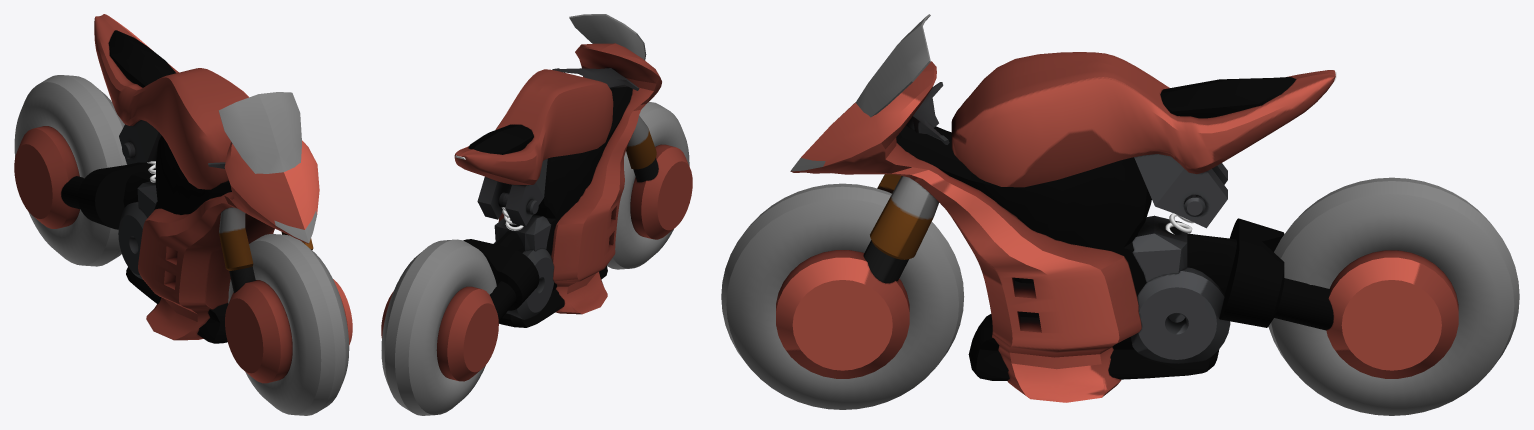
Rendered from motorbike.fbx.
The picture shows the model from 3 angles, left to right: view 1: azimuth 30°, elevation 25°; view 2: azimuth 150°, elevation 25°; view 3: azimuth 270°, elevation 25°; orthographic projection. The views are drawn at different scales.
Parts seen in each view (by area): view 1: Bike, wheel front, wheel rear, wheel center front, glass, wheel center rear, front dampers, light front; view 2: Bike, wheel rear, wheel center rear, wheel center front, wheel front, front dampers, glass; view 3: Bike, wheel rear, wheel front, wheel center rear, wheel center front, front dampers, glass.
Part boxes in pixels (<box>): Bike: <box>61,14,319,343</box>; wheel front: <box>228,234,349,415</box>; wheel rear: <box>14,75,126,266</box>; wheel center front: <box>225,279,352,383</box>; glass: <box>218,92,301,173</box>; wheel center rear: <box>14,126,79,228</box>; front dampers: <box>208,162,313,292</box>; light front: <box>274,210,316,243</box>; Bike: <box>454,43,661,327</box>; wheel rear: <box>381,239,496,415</box>; wheel center rear: <box>381,286,498,381</box>; wheel center front: <box>630,144,692,239</box>; wheel front: <box>607,102,689,269</box>; front dampers: <box>552,68,658,182</box>; glass: <box>569,14,646,60</box>; Bike: <box>790,52,1335,402</box>; wheel rear: <box>1268,177,1519,415</box>; wheel front: <box>721,183,964,409</box>; wheel center rear: <box>1326,250,1458,378</box>; wheel center front: <box>776,250,909,378</box>; front dampers: <box>863,82,949,283</box>; glass: <box>855,14,930,117</box>.
Bounding box in the file's own units: 22.64 × 62.61 × 117.
